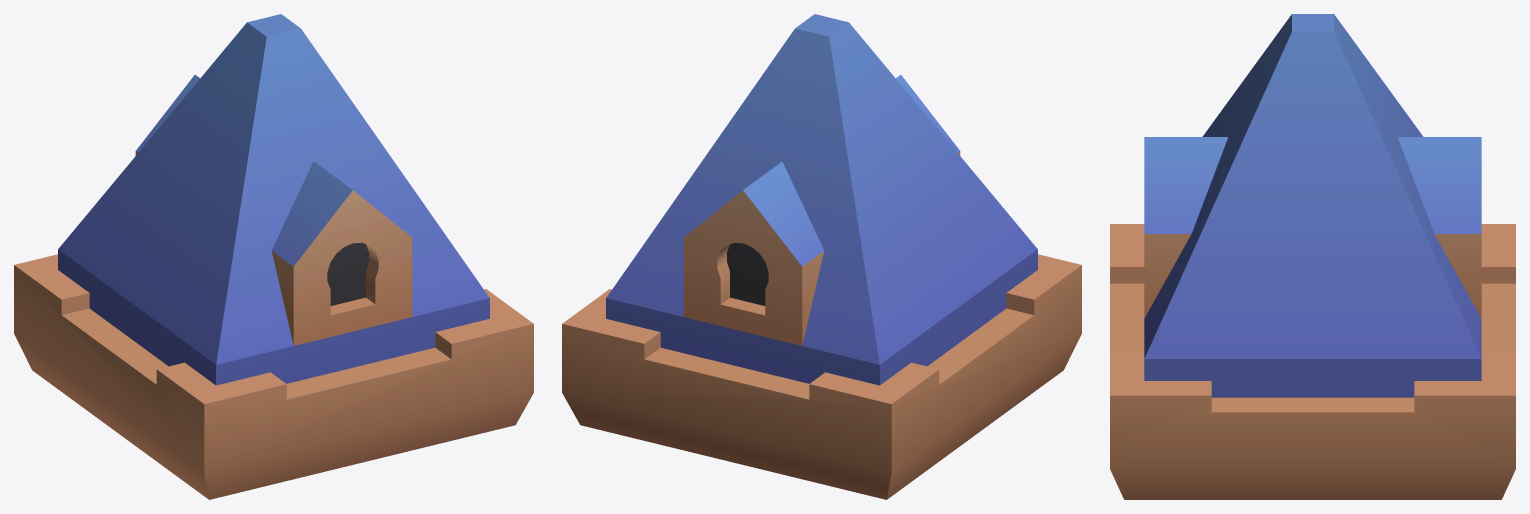
Rendered from kenney-castle-tower-square-top-roof-high-windows.glb.
3 renders of one model, left to right at view 1: azimuth 30°, elevation 25°; view 2: azimuth 150°, elevation 25°; view 3: azimuth 270°, elevation 25°, orthographic. The views are drawn at different scales.
Visible parts, largest first — view 1: tower-square-top-roof-high-windows; view 2: tower-square-top-roof-high-windows; view 3: tower-square-top-roof-high-windows.
Boxes of the visible parts, x1,y1,x2,y2 form: tower-square-top-roof-high-windows: (14,14,533,499); tower-square-top-roof-high-windows: (562,14,1081,499); tower-square-top-roof-high-windows: (1110,14,1515,499).
Size of the model in its own units: 1 by 1.08 by 1.
Materials: 1 (1 with a texture image).
